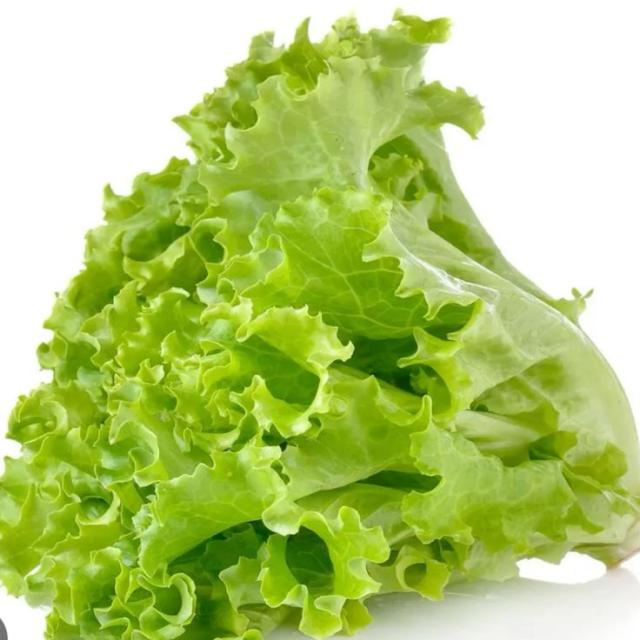lettuce: (0, 15, 639, 639)
